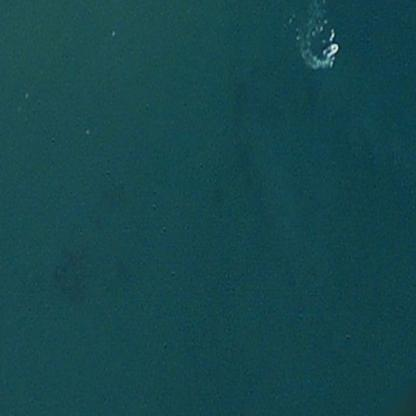ship: (328, 42, 330, 58)
